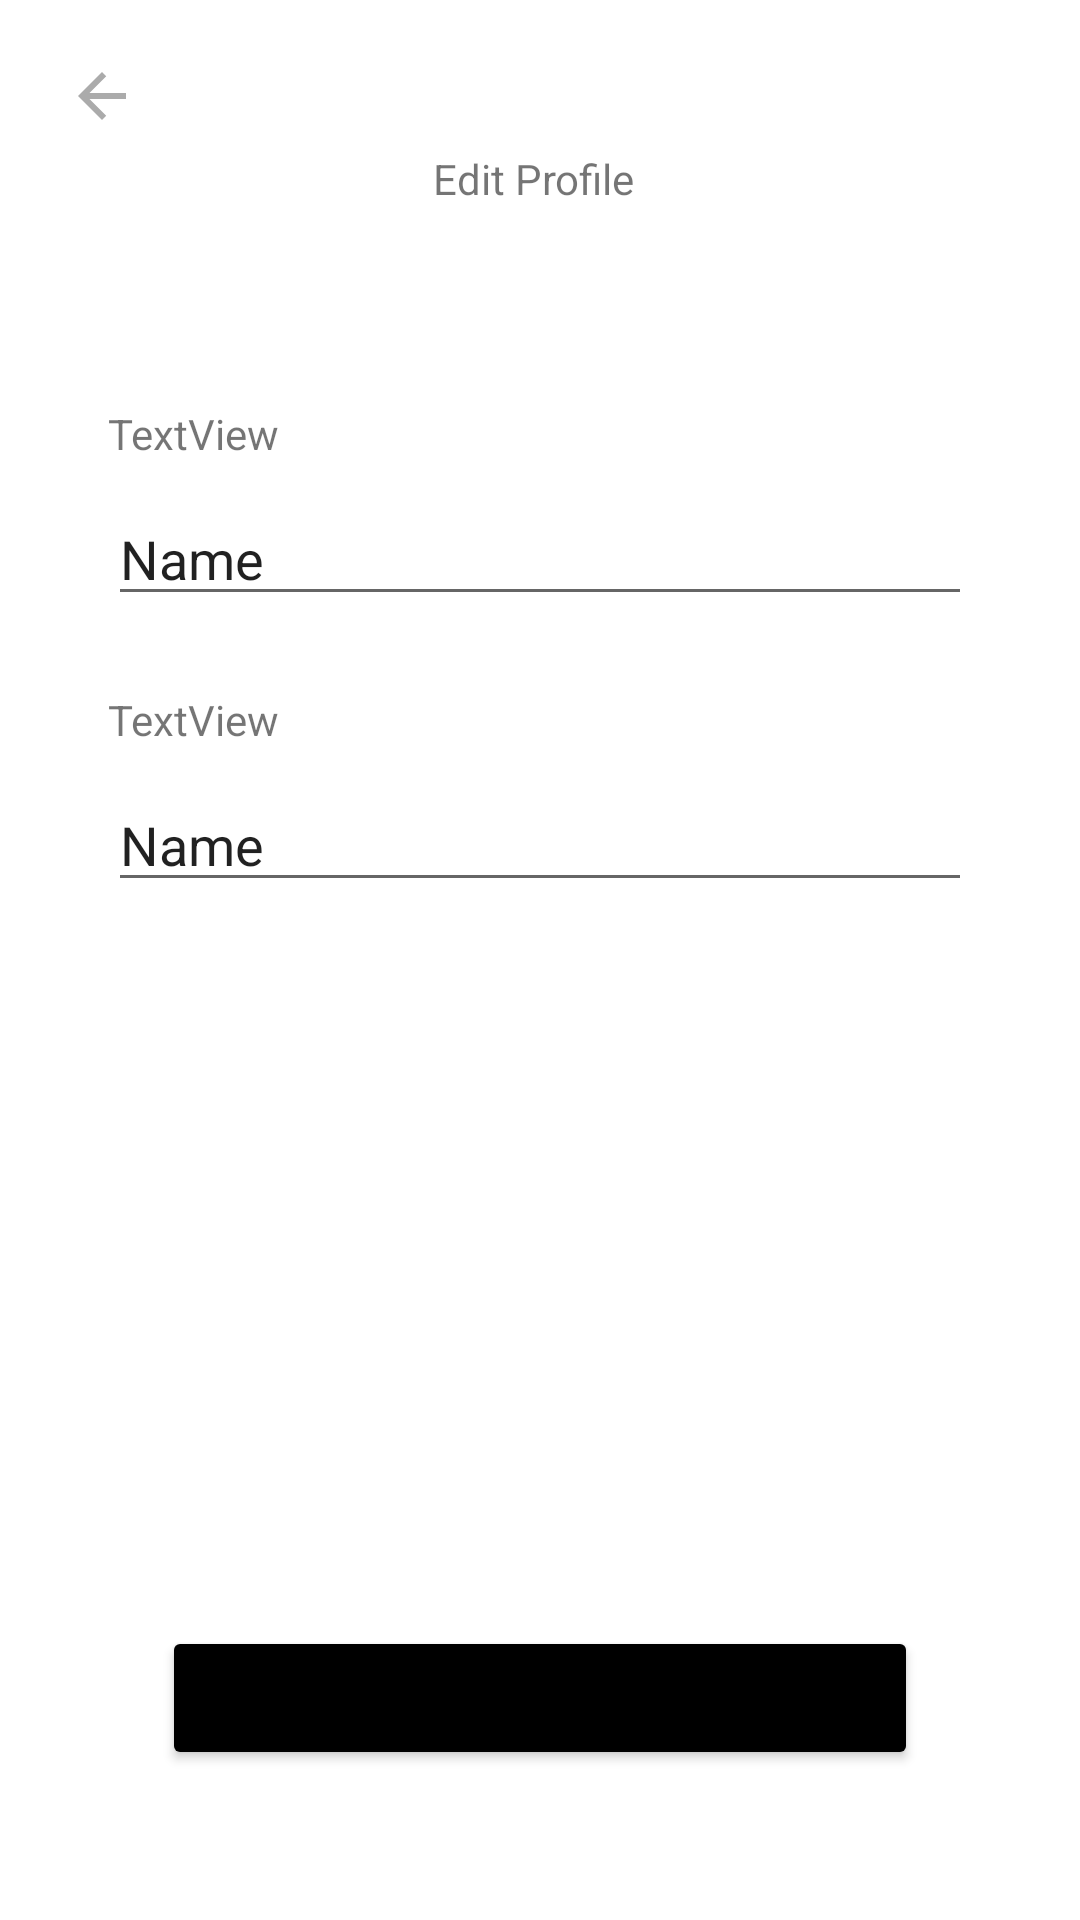

Icon click points for this 1080w x 1920h phone screenshot, format (x,y):
arrow back: (102,96)
